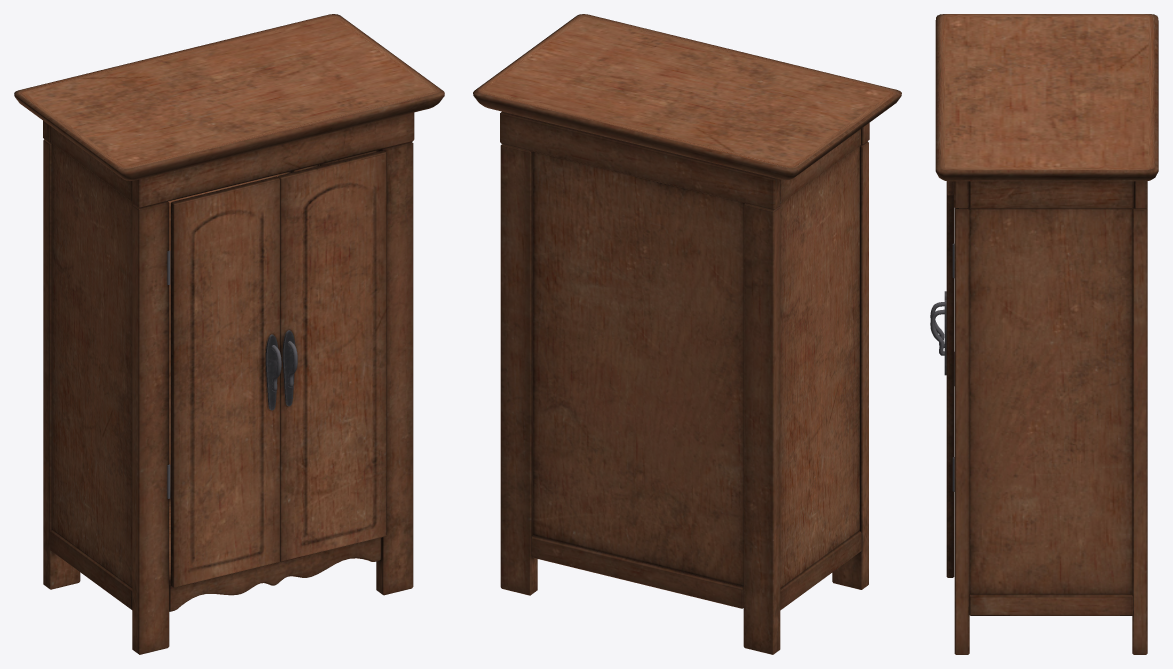
File: wardrobe4.glb
3 views of the same model, side by side, from view 1: azimuth 30°, elevation 25°; view 2: azimuth 150°, elevation 25°; view 3: azimuth 270°, elevation 25° (orthographic).
Visible parts, largest first — view 1: Cube.018, Cube.019, Cube.017, Cube.013, Cube, Cube.001, Cube.004, Cube.002, Cube.008, Cube.010, Cube.006, Cube.014 (+2 smaller); view 2: Cube.014, Cube.017, Cube.013, Cube.002, Cube.003, Cube.005, Cube.009, Cube, Cube.010, Cube.006; view 3: Cube.012, Cube.017, Cube.001, Cube.003, Cube.007, Cube.011, Cube.019, Cube.004, Cube.005.
Part boxes in pixels (bbox=[...]): Cube.018: bbox=[170, 176, 279, 587]; Cube.019: bbox=[278, 150, 386, 561]; Cube.017: bbox=[14, 14, 444, 180]; Cube.013: bbox=[51, 143, 132, 587]; Cube: bbox=[132, 201, 169, 654]; Cube.001: bbox=[376, 142, 413, 595]; Cube.004: bbox=[132, 112, 414, 208]; Cube.002: bbox=[43, 139, 80, 589]; Cube.008: bbox=[169, 538, 381, 611]; Cube.010: bbox=[50, 530, 132, 609]; Cube.006: bbox=[51, 126, 132, 201]; Cube.014: bbox=[168, 171, 290, 497]; Cube.014: bbox=[533, 151, 744, 586]; Cube.017: bbox=[473, 14, 901, 180]; Cube.013: bbox=[779, 145, 860, 588]; Cube.002: bbox=[743, 203, 780, 654]; Cube.003: bbox=[500, 144, 537, 595]; Cube.005: bbox=[500, 111, 779, 210]; Cube.009: bbox=[531, 535, 743, 608]; Cube: bbox=[832, 141, 868, 589]; Cube.010: bbox=[780, 531, 861, 610]; Cube.006: bbox=[780, 129, 860, 203]; Cube.012: bbox=[968, 207, 1133, 594]; Cube.017: bbox=[935, 14, 1158, 181]; Cube.001: bbox=[954, 208, 969, 654]; Cube.003: bbox=[1132, 196, 1147, 654]; Cube.007: bbox=[969, 181, 1133, 208]; Cube.011: bbox=[969, 594, 1132, 615]; Cube.019: bbox=[946, 181, 954, 577]; Cube.004: bbox=[954, 181, 969, 208]; Cube.005: bbox=[1134, 181, 1147, 209].
Bounding box in the file's own units: 1.35 × 1.97 × 0.8203.
Materials: 1 (1 with a texture image).
